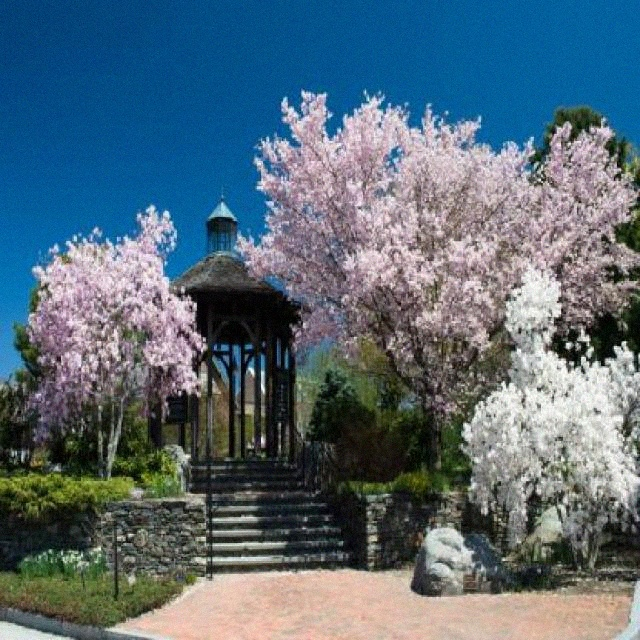stair: (188, 451, 360, 571)
